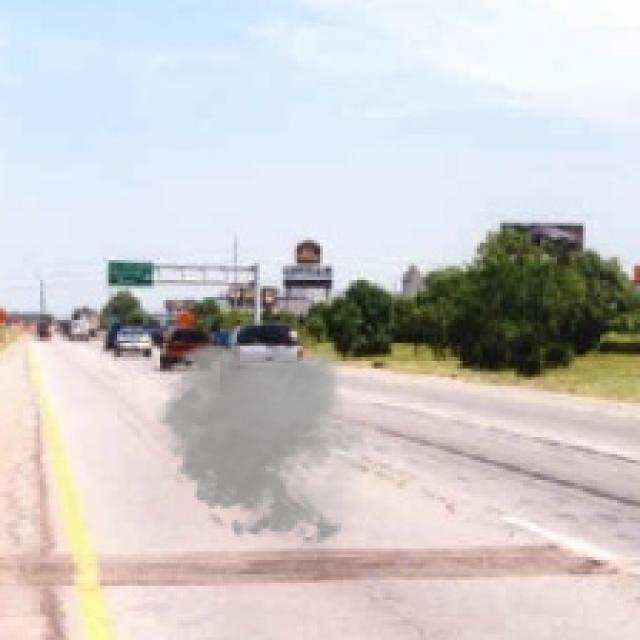smoke: (146, 334, 380, 552)
